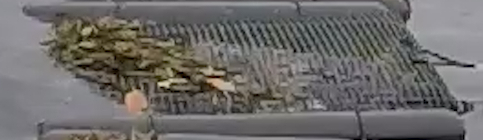bag: (19, 2, 467, 140)
